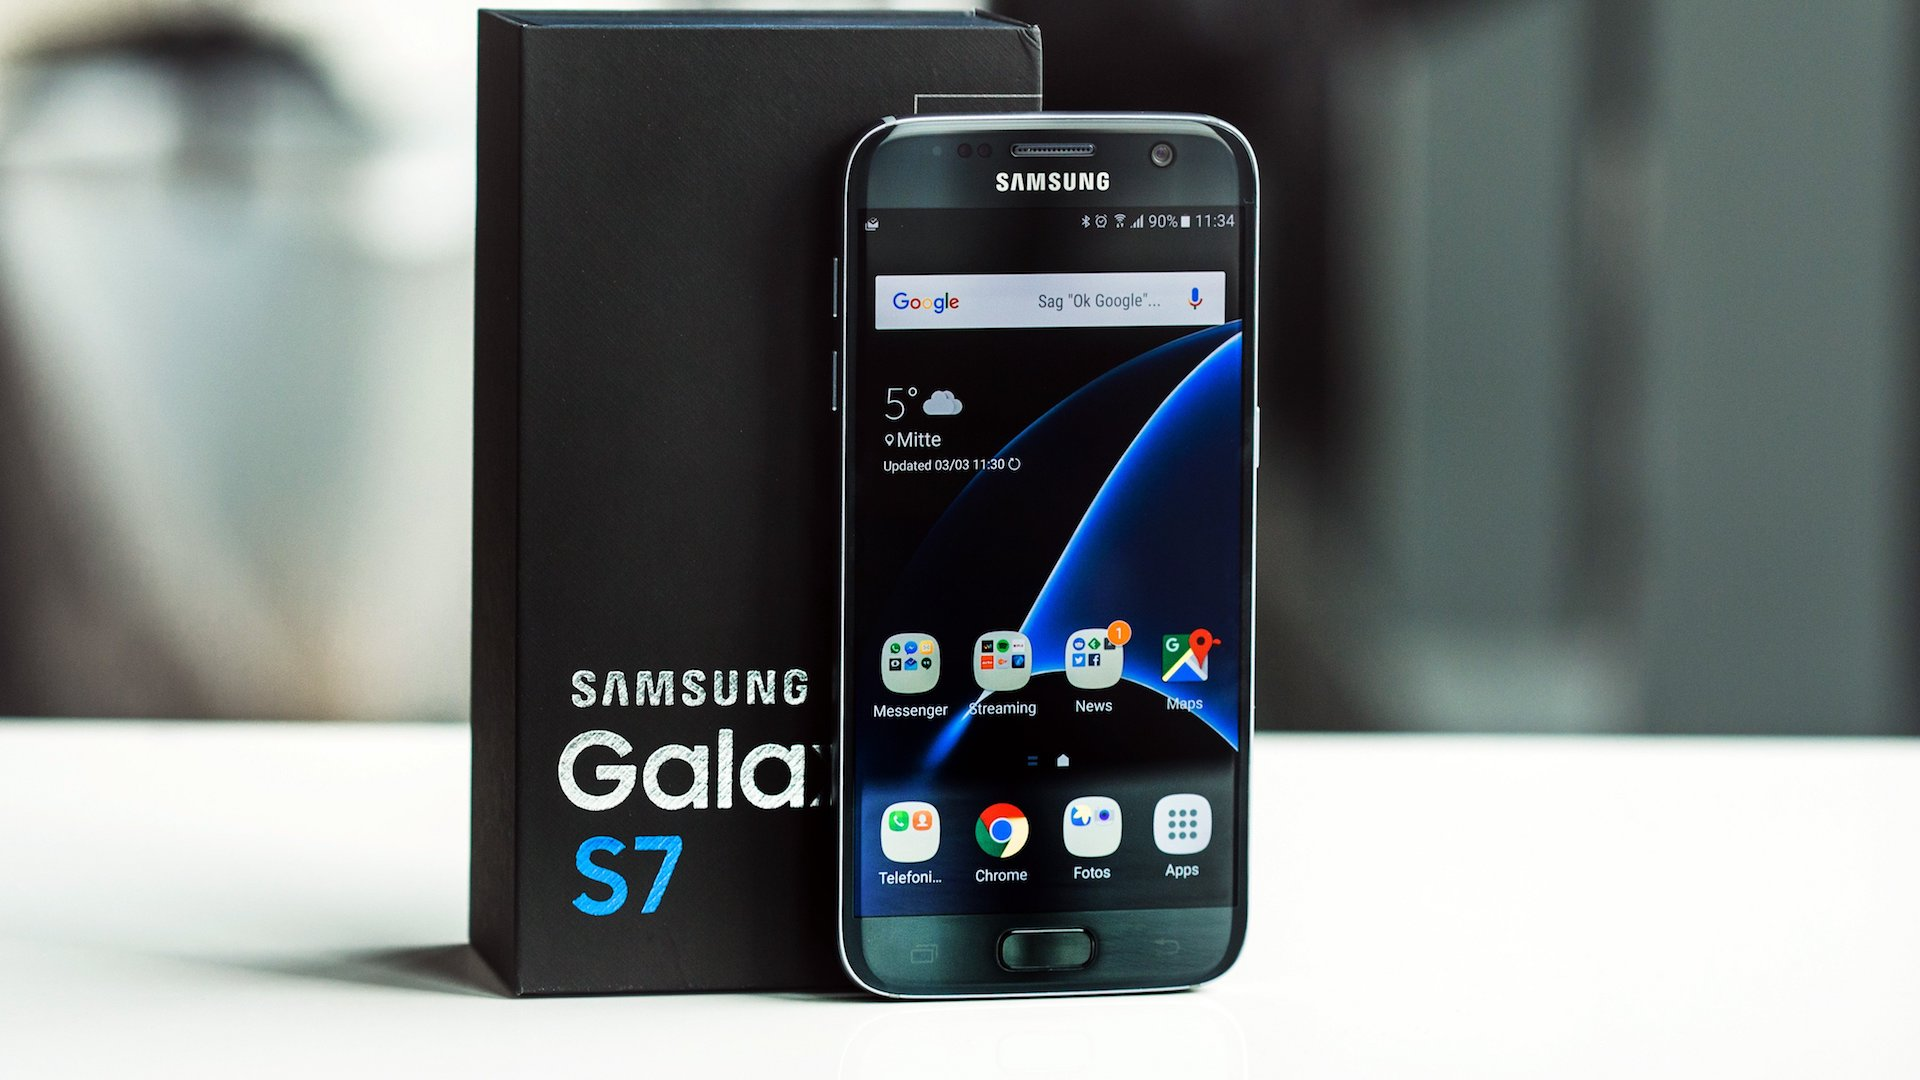smartphone: (825, 103, 1266, 1002)
